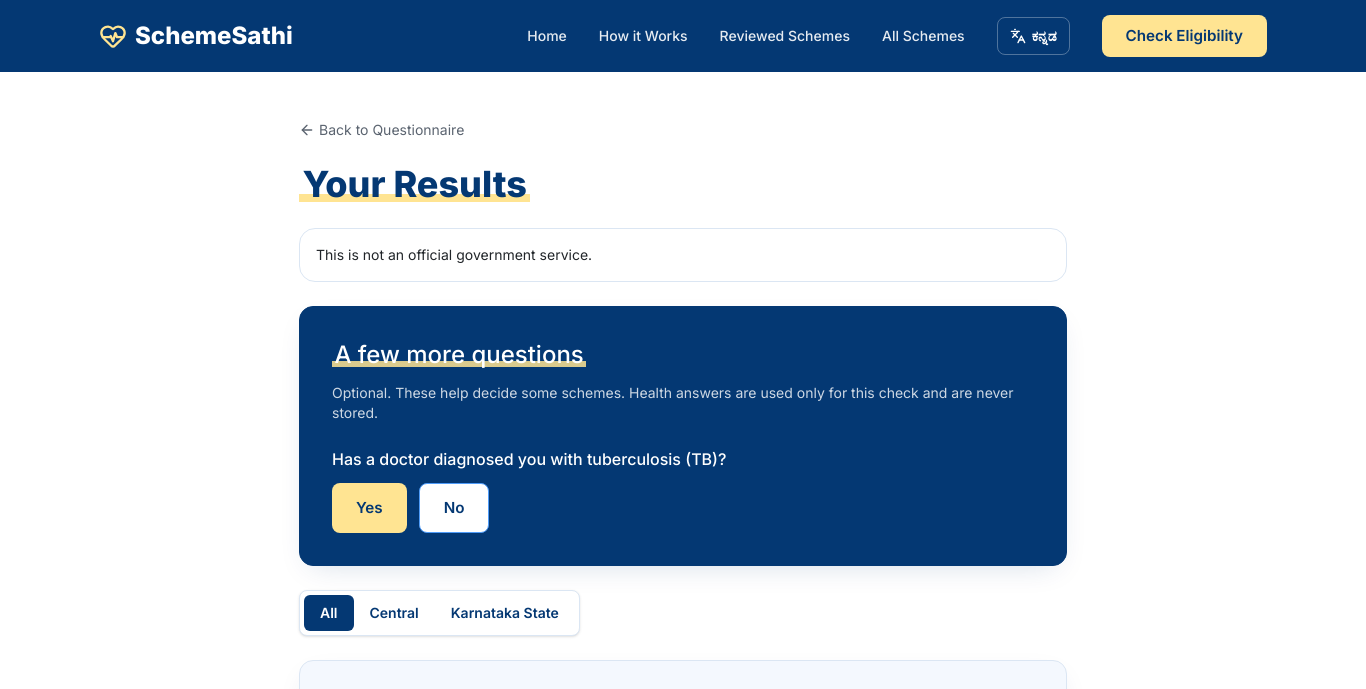
Scenario: results page › asks a sensitive follow-up only when a scheme needs it, then re-checks
Check: the text "Has a doctor diagnosed you with tuberculosis (TB)?" is shown, box [332, 447, 726, 471]
Check: the text "never stored" is shown, box [332, 384, 1014, 421]
Click the button "Yes". click: (369, 508)
box: [332, 483, 407, 533]
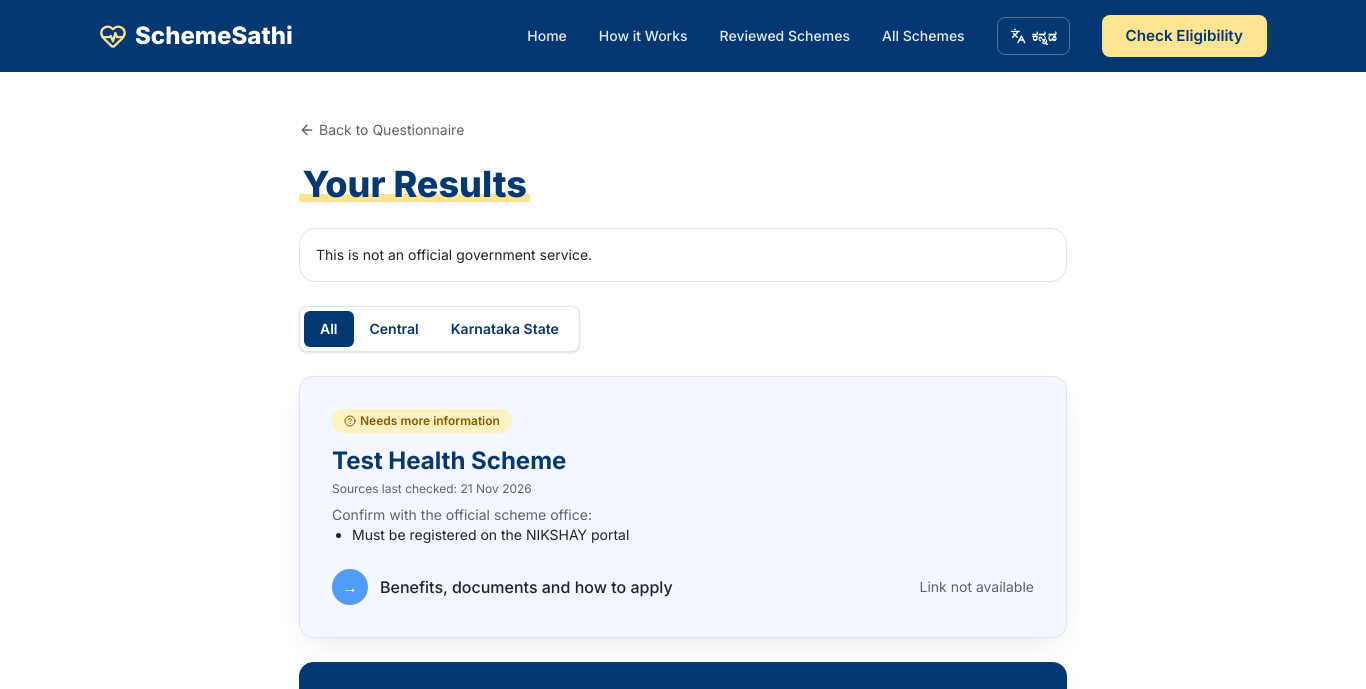
Check: the list item "Must be registered on the NIKSHAY portal" is shown, box [352, 526, 629, 543]
Check: the text "diagnosed you with tuberculosis" is gone
